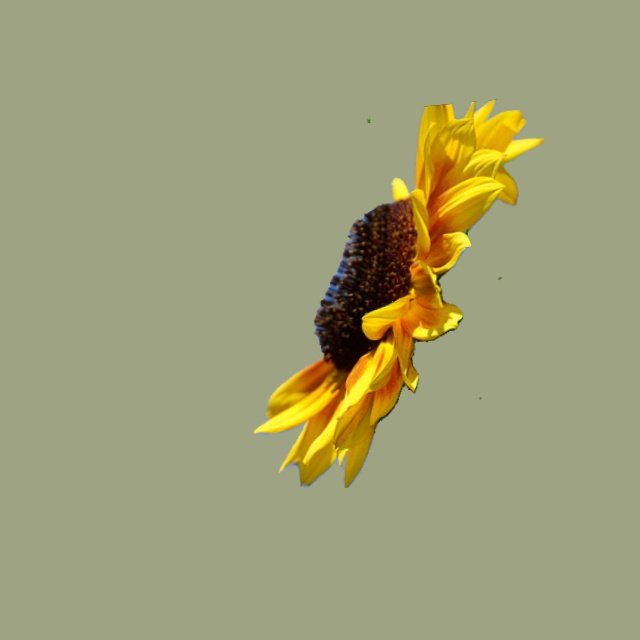sunflower: (254, 100, 544, 487)
ylang-ylang: (367, 119, 369, 122)
